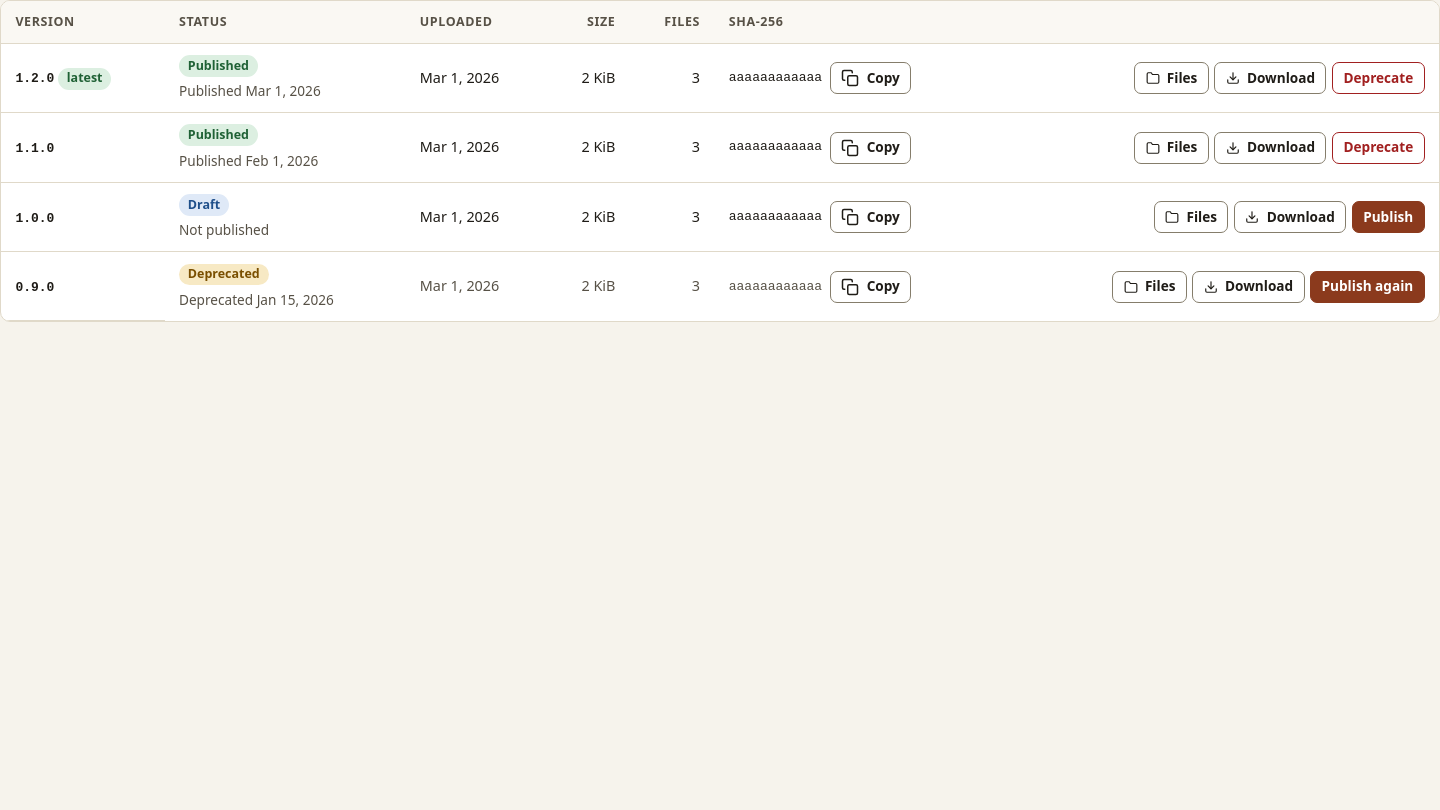
Test: VersionsTab: publishing › does nothing when the dialog is cancelled
Click the button named "Publish version 1.0.0": [1388, 217] box 1352,201 -> 1425,233
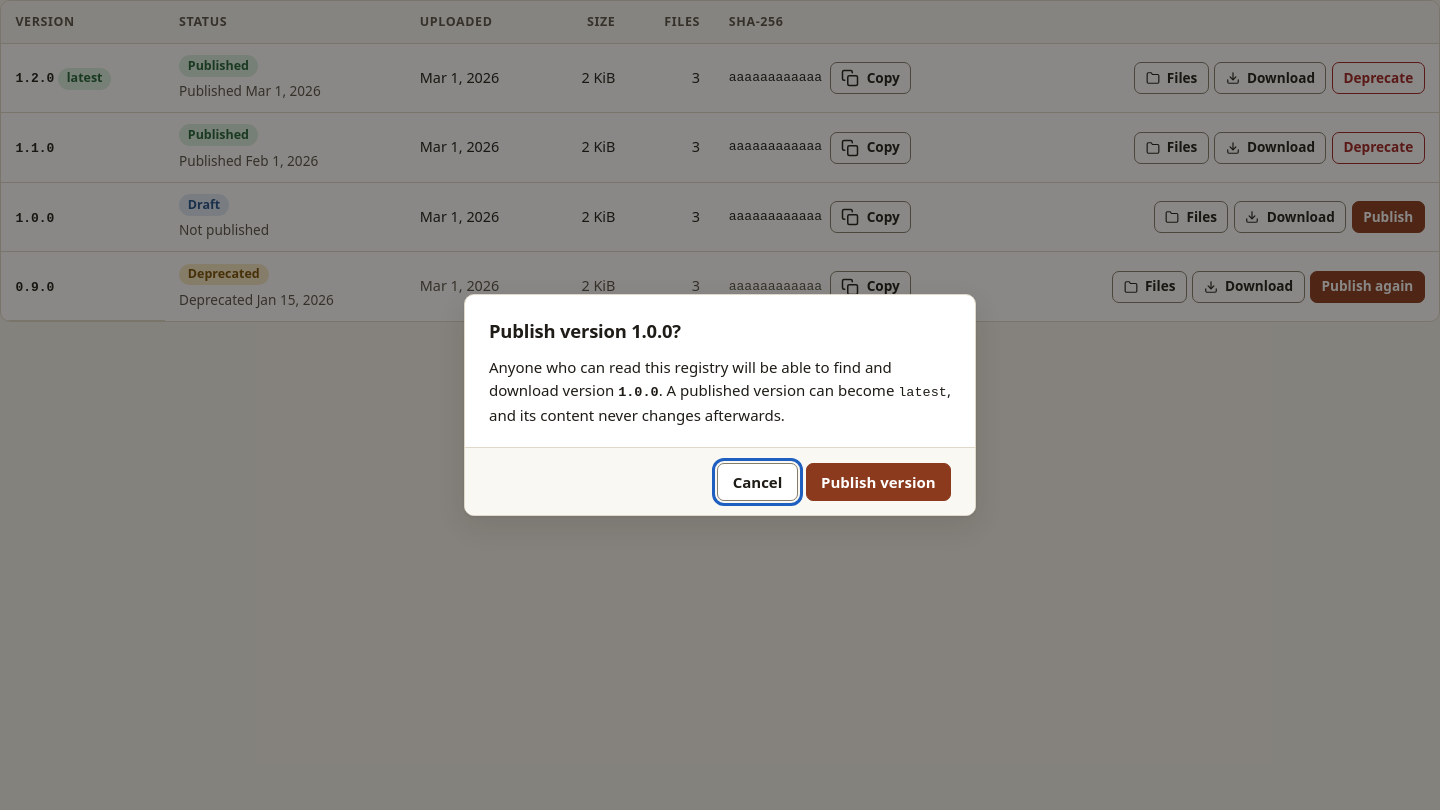
Click the button "Cancel": [758, 482] box 717,462 -> 798,500
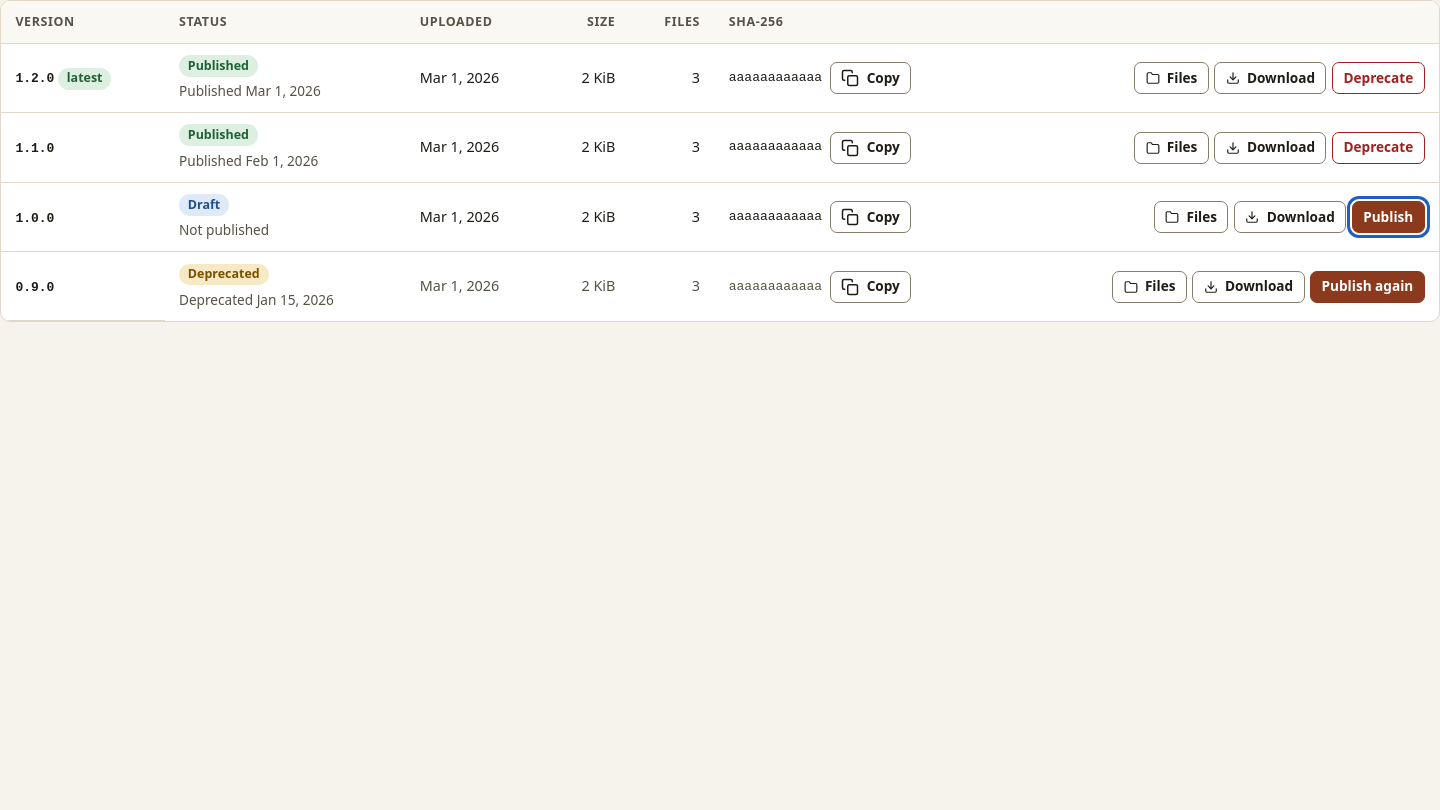
expect the dialog is gone: met
